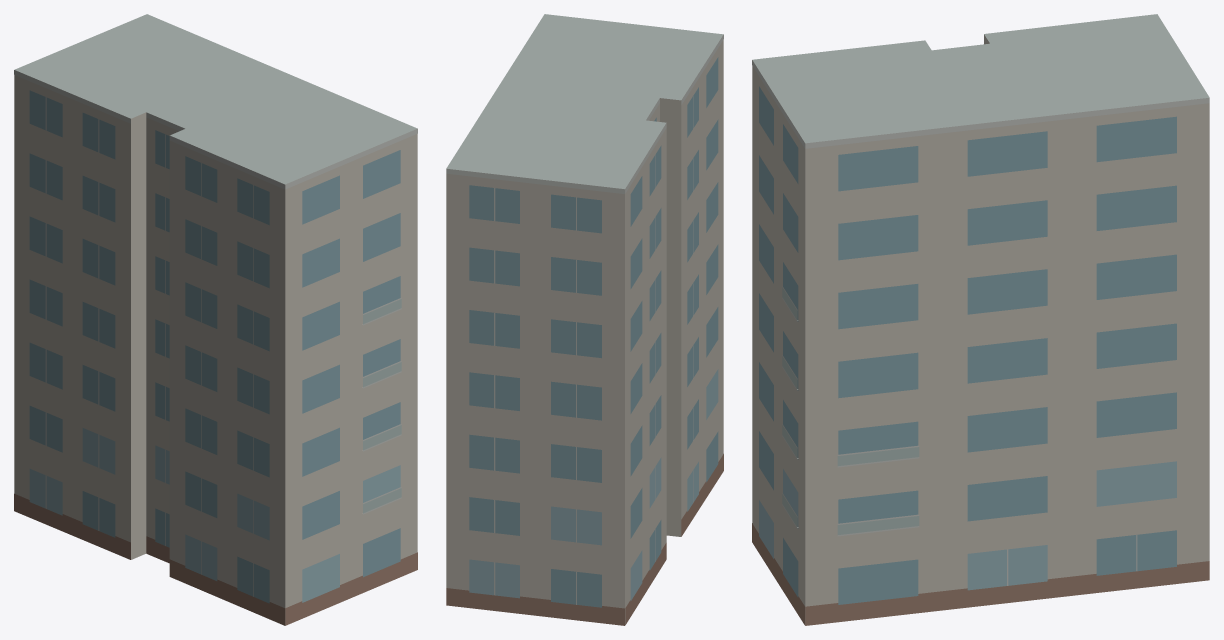
File: survey-upis-32571106.glb
3 renders of one model, left to right at view 1: azimuth 30°, elevation 25°; view 2: azimuth 150°, elevation 25°; view 3: azimuth 270°, elevation 25°, orthographic. The views are drawn at different scales.
Parts seen in each view (by area): view 1: survey-upis-32571106.tmp; view 2: survey-upis-32571106.tmp; view 3: survey-upis-32571106.tmp.
Part boxes in pixels (x1,y1,x2,y2): survey-upis-32571106.tmp: (14, 14, 417, 625); survey-upis-32571106.tmp: (446, 14, 723, 625); survey-upis-32571106.tmp: (752, 14, 1209, 625).
Size of the model in its own units: 12.28 by 21.35 by 18.36.
